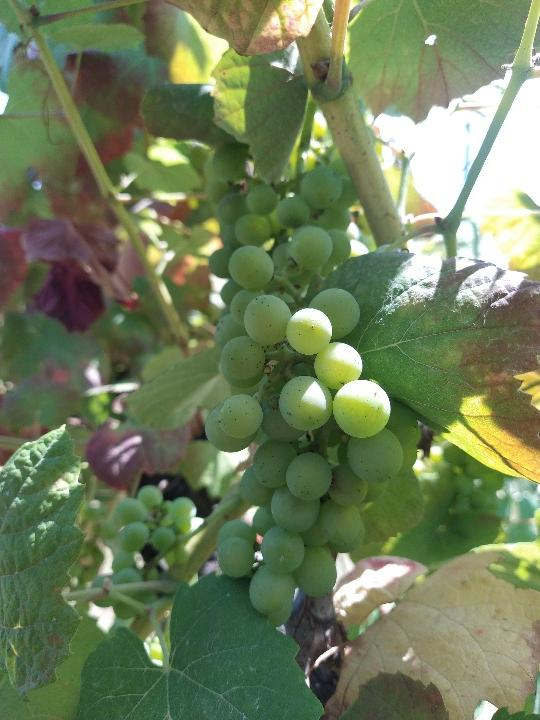grape: (211, 223, 404, 627)
